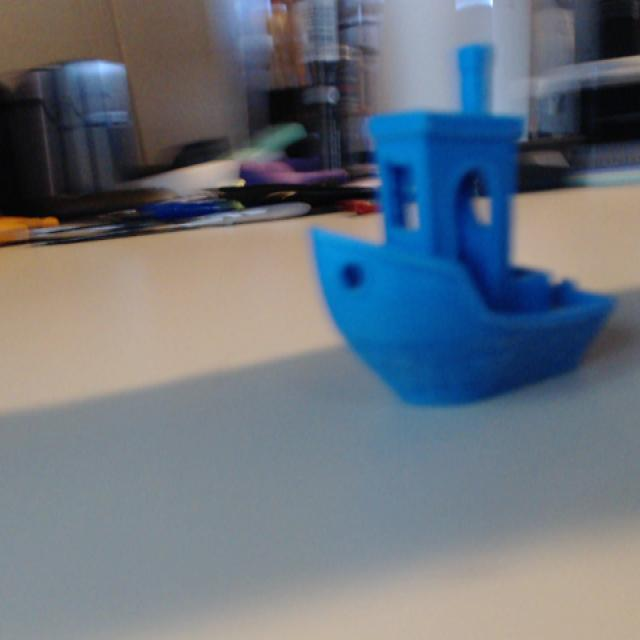benchy: (305, 44, 619, 411)
